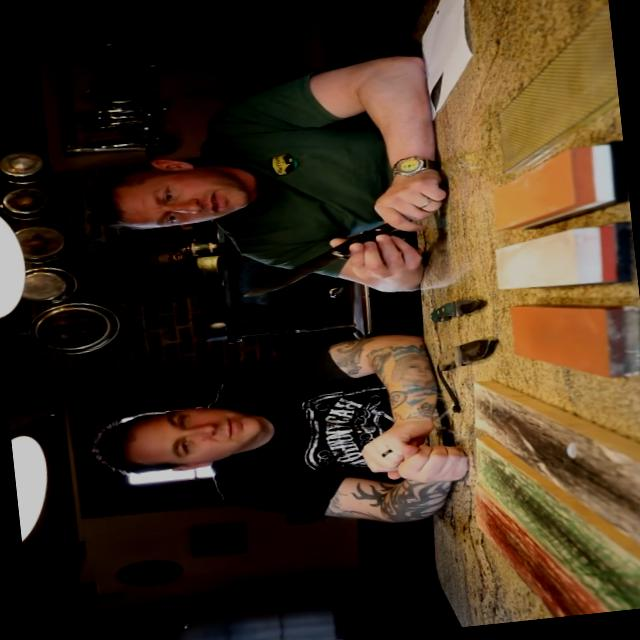knife: (212, 212, 408, 307)
